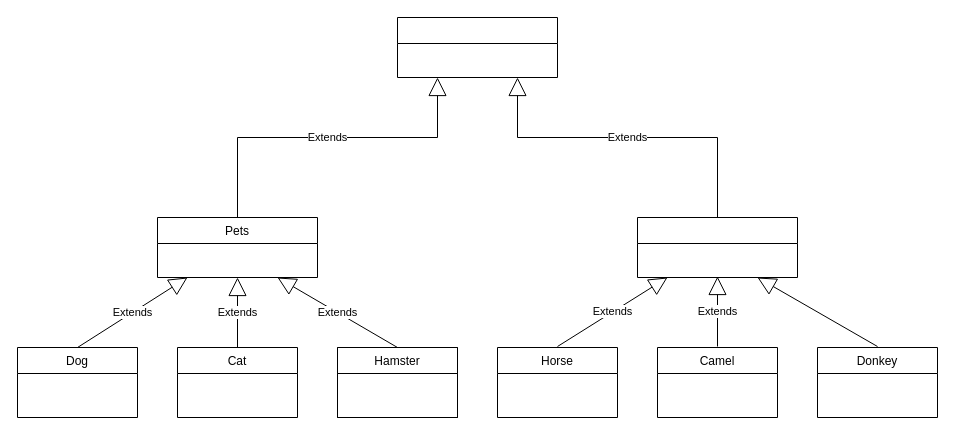
Some shapes in this 955 by 435 pixel diagram are drawn without their labels. Here are the shapes that lost their labels. From the top down, the centre of each, then its label:
the point at 477,47: Animal
the point at 717,247: Pack animals
